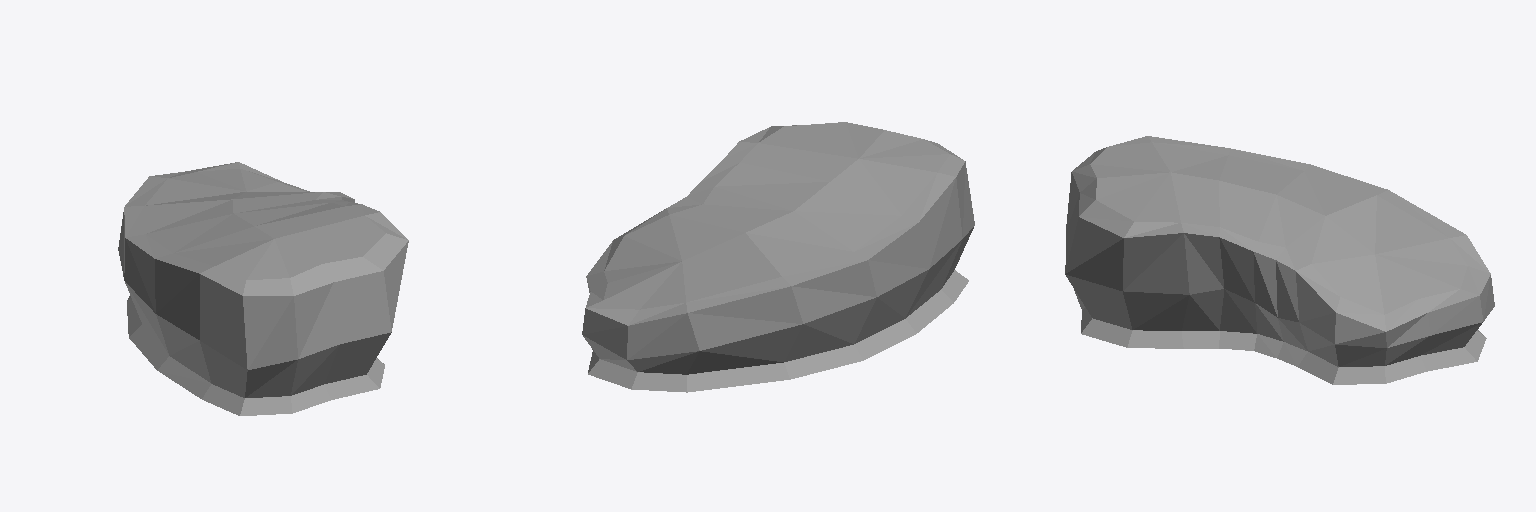
Rendered from Mesh_CavePack_Platform2_lod0.obj.
3 renders of one model, left to right at view 1: azimuth 30°, elevation 25°; view 2: azimuth 150°, elevation 25°; view 3: azimuth 270°, elevation 25°, orthographic.
Parts seen in each view (by area): view 1: Circle; view 2: Circle; view 3: Circle.
Boxes of the visible parts, <box> form: Circle: <box>118,162,408,415</box>; Circle: <box>582,122,974,392</box>; Circle: <box>1065,136,1494,384</box>.
Bounding box in the file's own units: 10.14 × 4.89 × 14.44.